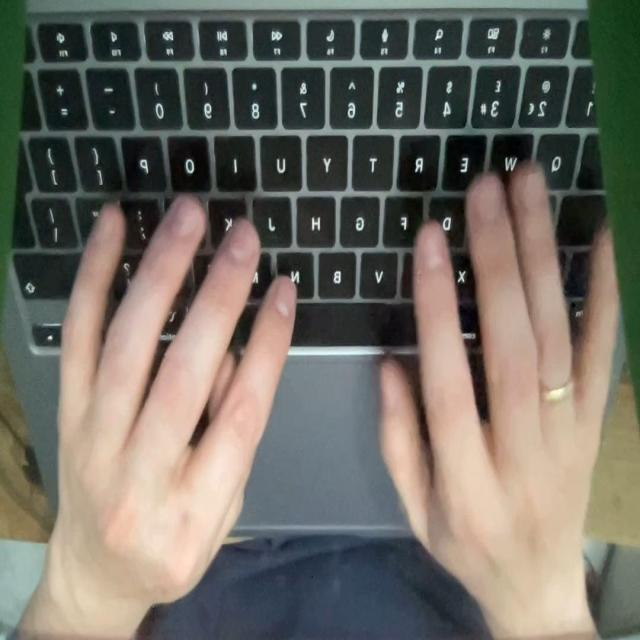keyboard-with-hands: (2, 0, 625, 542)
